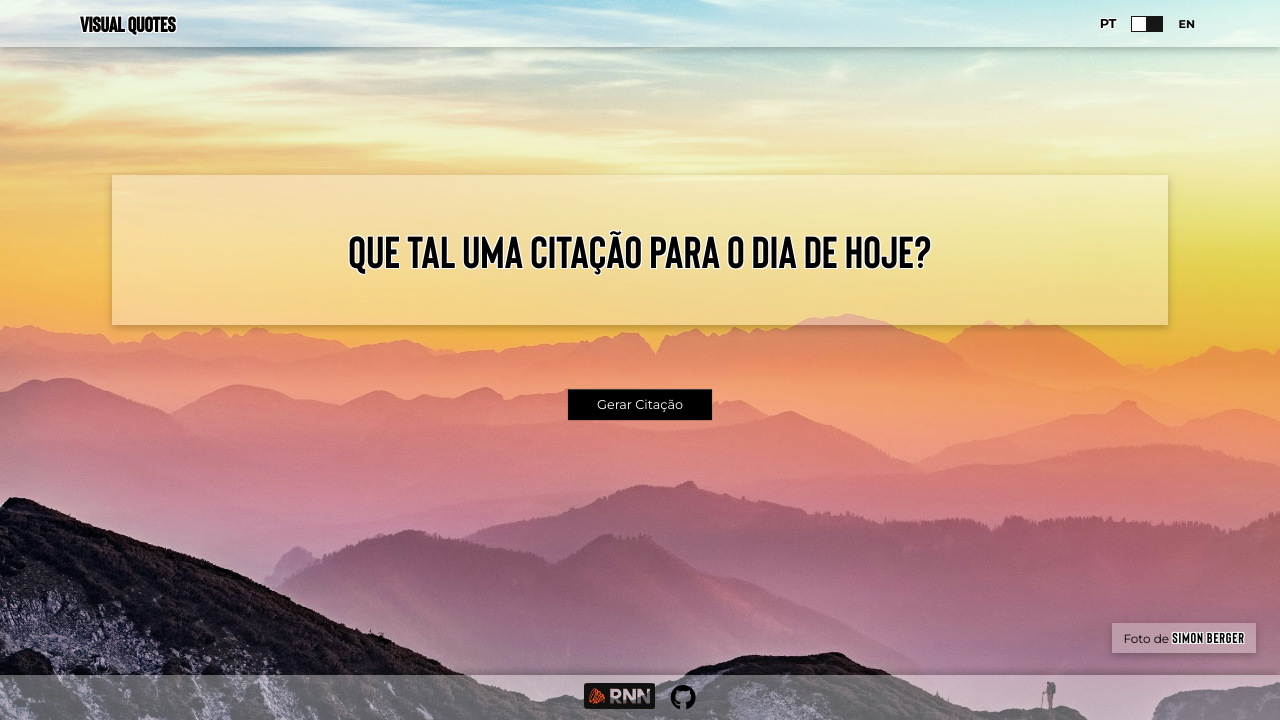
Teste E2E de Interações com a Frase do Dia › Deve traduzir a frase do botão ao alterar o idioma
Click the button "Gerar Citação": (640, 405) x1=568 y1=389 x2=712 y2=420
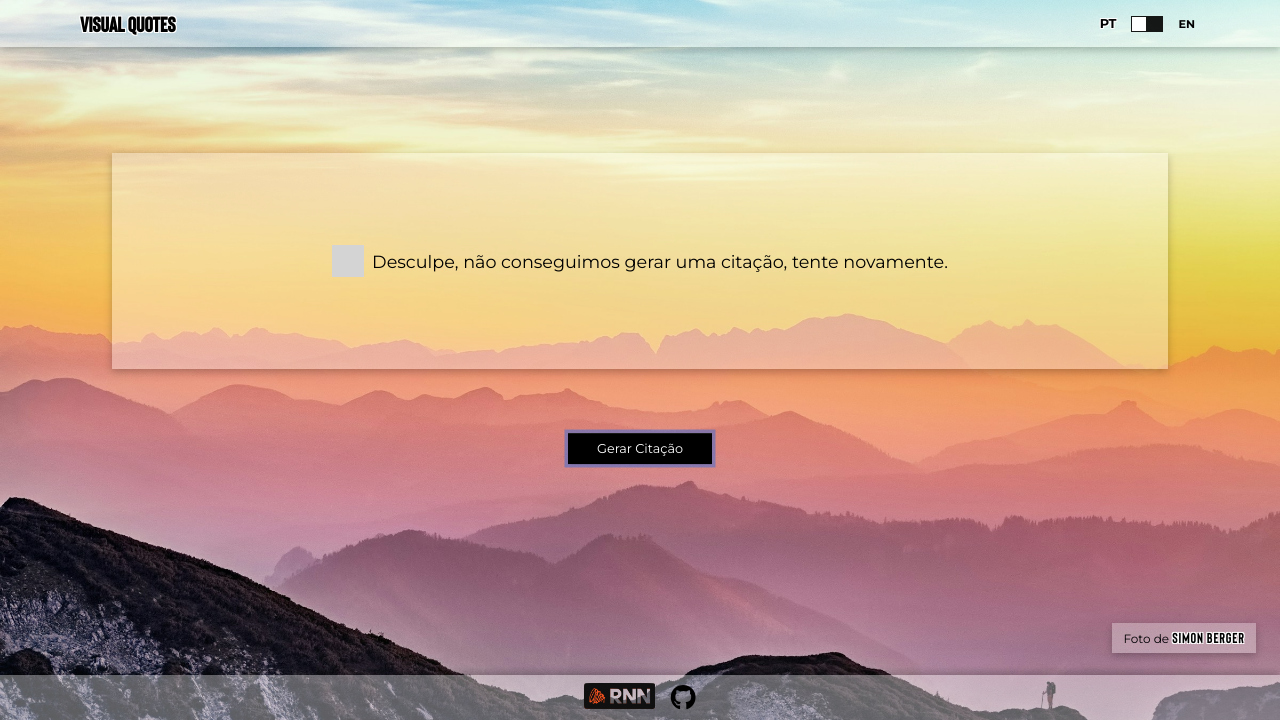
Expected: the button with class "botao-frase" reads "Gerar Citação", x1=568 y1=433 x2=712 y2=464
Check the checkbox with id "idioma-toggle": (1148, 24) x1=1132 y1=16 x2=1164 y2=32
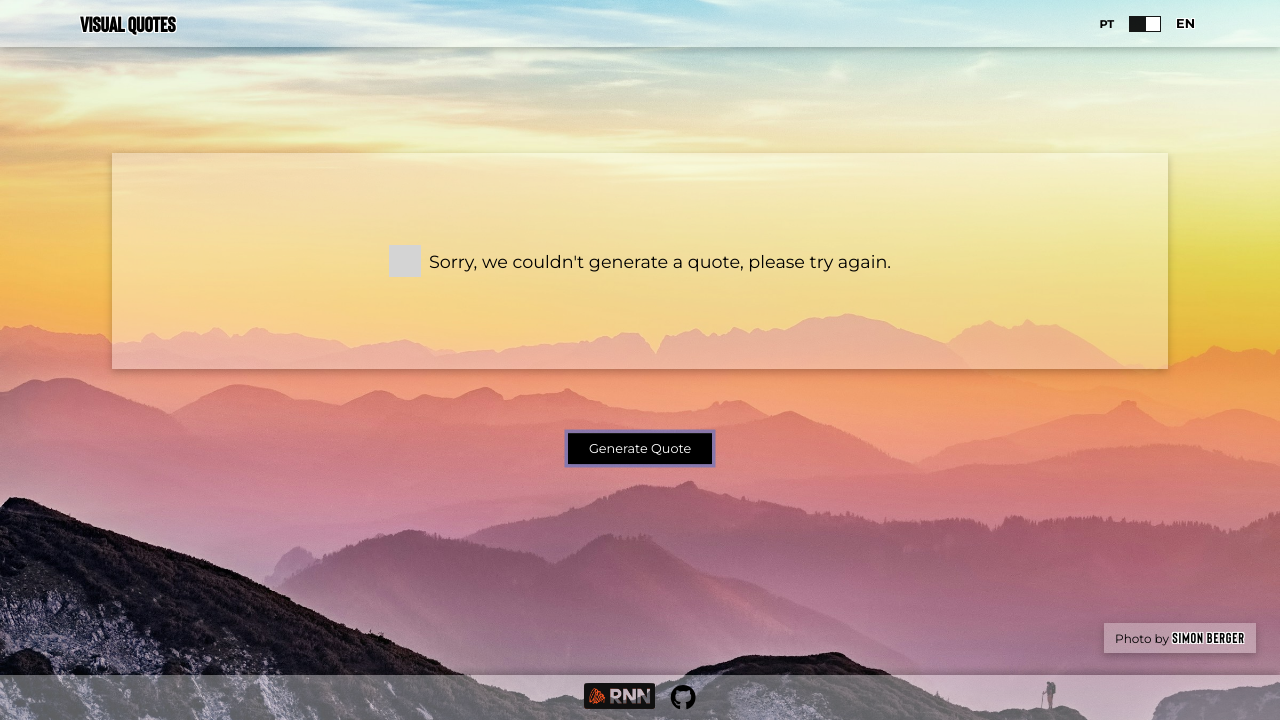
Expected: the button with class "botao-frase" reads "Generate Quote", x1=568 y1=433 x2=712 y2=464
Uncheck the checkbox with id "idioma-toggle": (1145, 24) x1=1129 y1=16 x2=1161 y2=32
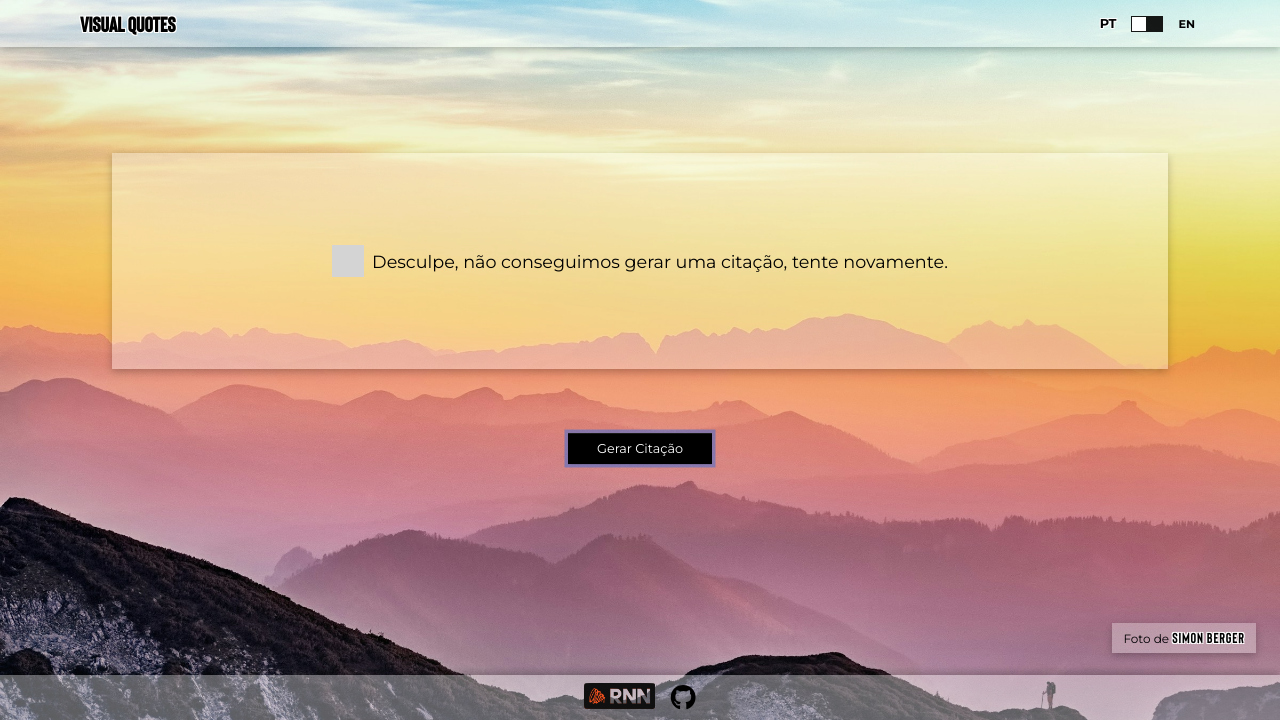
Expected: the button with class "botao-frase" reads "Gerar Citação", x1=568 y1=433 x2=712 y2=464
